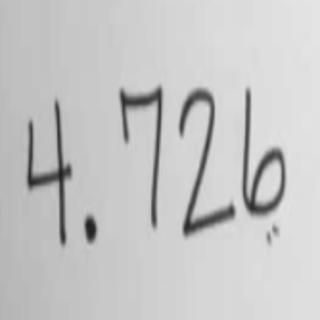.: (81, 212, 99, 245)
2: (178, 90, 238, 239)
4: (22, 99, 75, 249)
6: (242, 86, 294, 219)
7: (116, 85, 164, 231)
